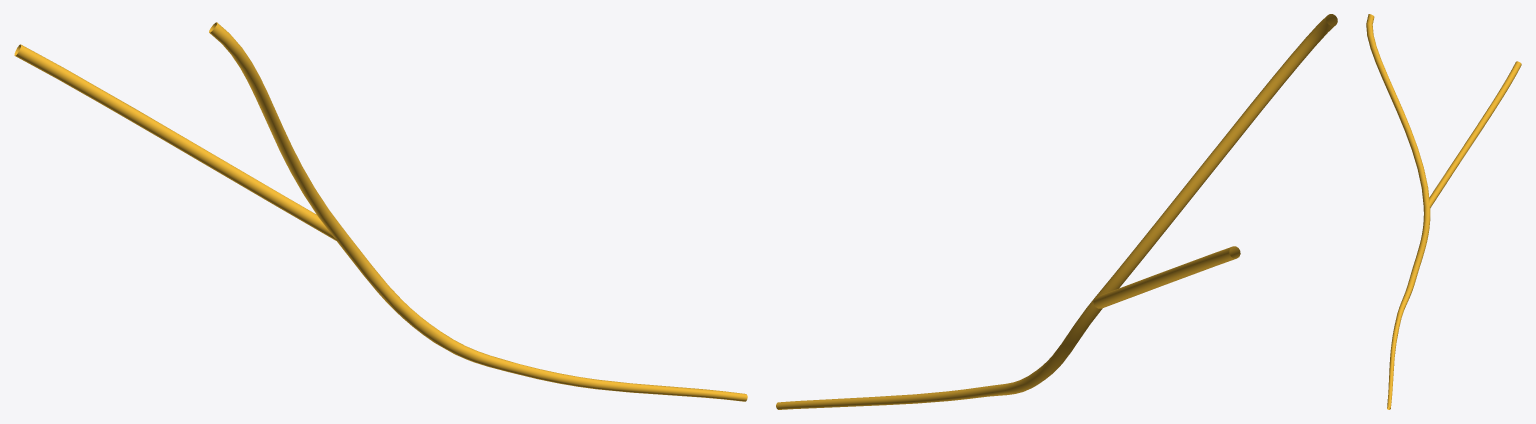
File: nervoso-nerve-to-piriformis-muscle-l.glb
The picture shows the model from 3 angles, left to right: view 1: azimuth 30°, elevation 25°; view 2: azimuth 150°, elevation 25°; view 3: azimuth 270°, elevation 25°; orthographic projection. The views are drawn at different scales.
Visible parts, largest first — view 1: Nerve to piriformis muscle.l; view 2: Nerve to piriformis muscle.l; view 3: Nerve to piriformis muscle.l.
Boxes of the visible parts, x1,y1,x2,y2 form: Nerve to piriformis muscle.l: [14, 22, 747, 401]; Nerve to piriformis muscle.l: [776, 14, 1337, 409]; Nerve to piriformis muscle.l: [1366, 14, 1521, 409].
Bounding box in the file's own units: 0.0526 × 0.0438 × 0.0235.
